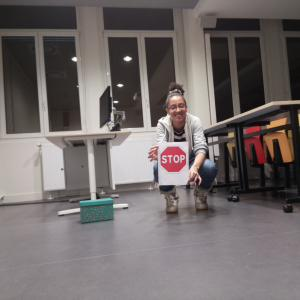stop: (159, 145, 187, 172)
